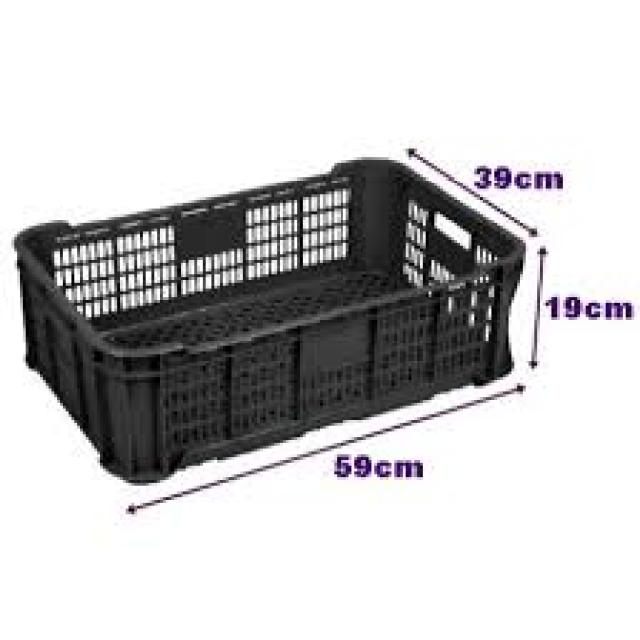basket: (0, 93, 561, 508)
